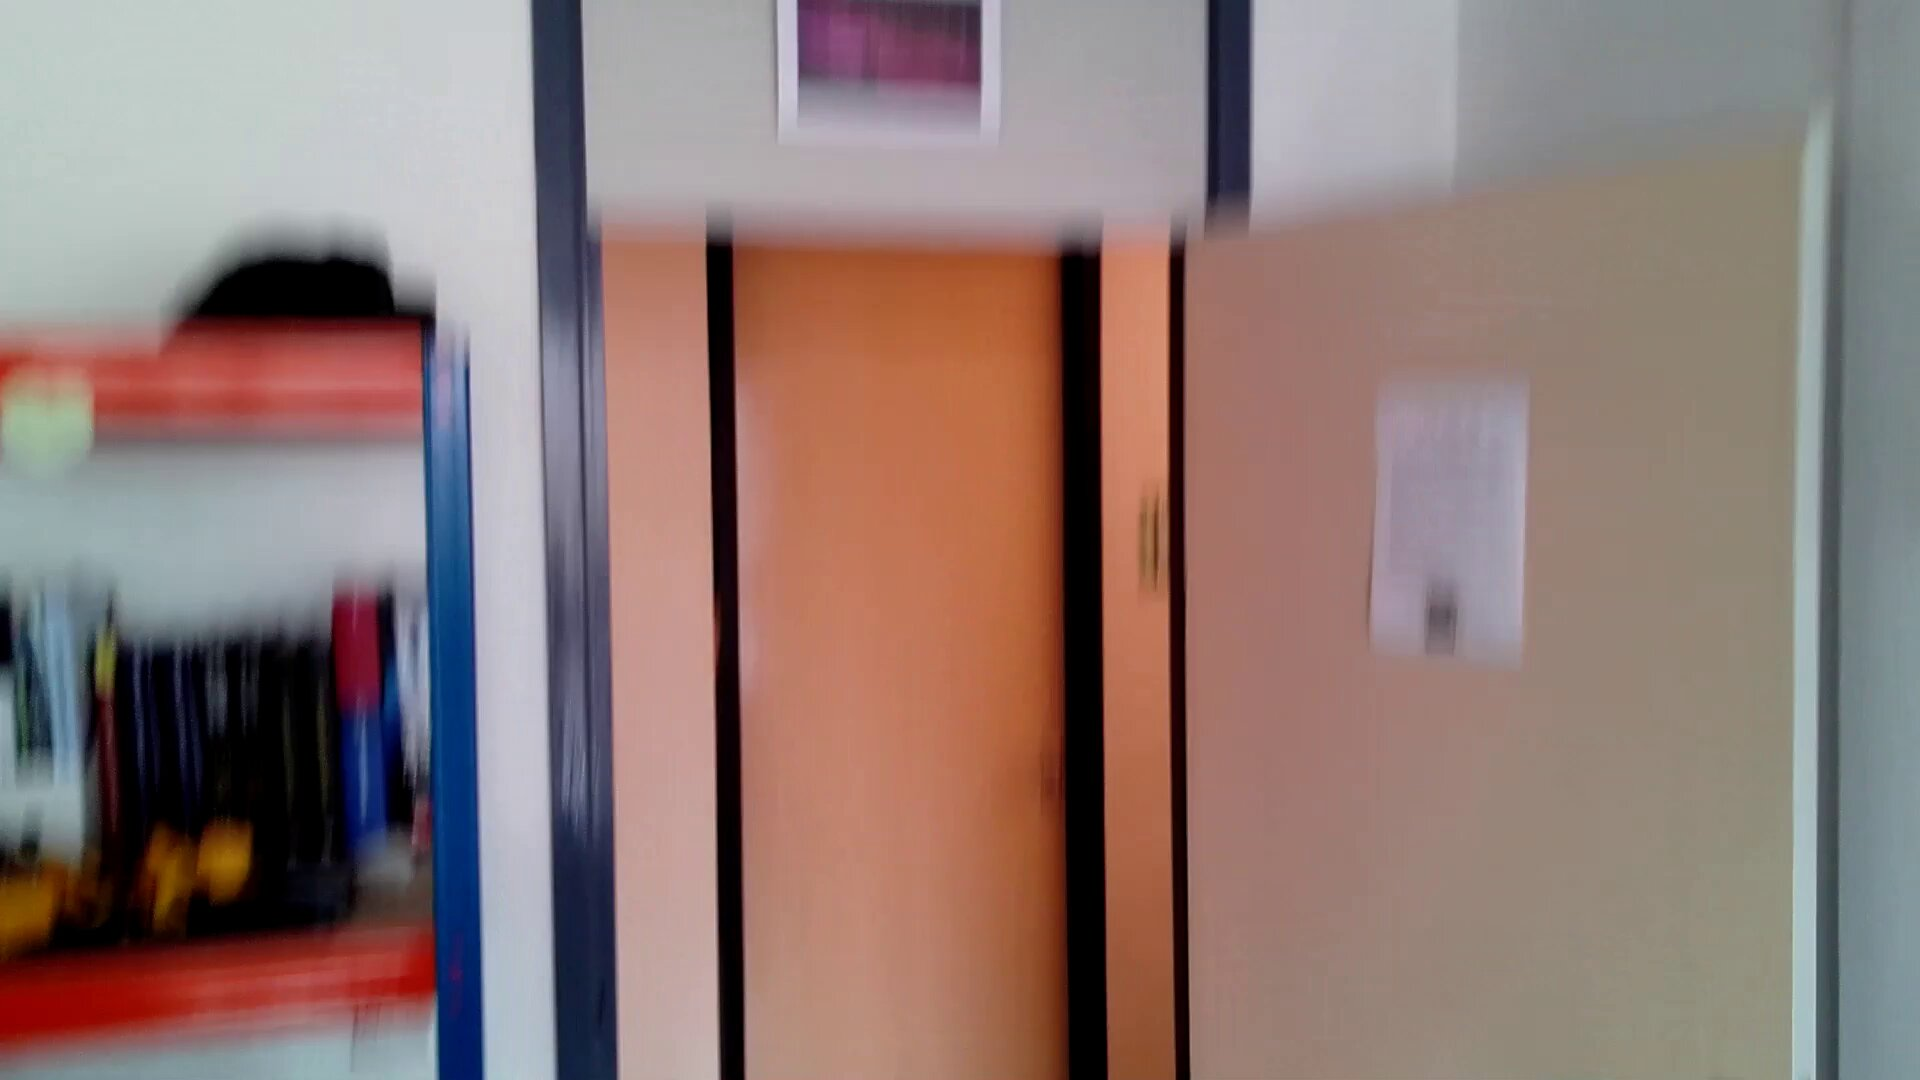Door: (1166, 98, 1859, 1080), (698, 214, 1124, 1080)
